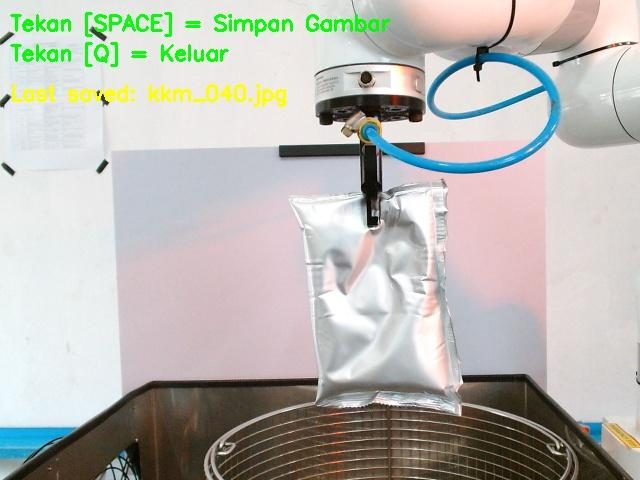retort-pouch: (286, 181, 465, 412)
